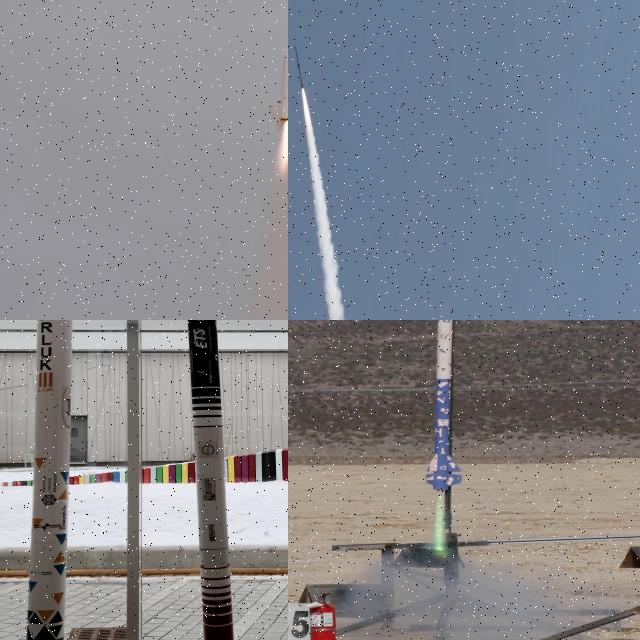Rocket: (26, 320, 72, 640), (188, 320, 234, 640), (423, 320, 462, 495), (266, 36, 288, 130), (294, 45, 305, 89)
